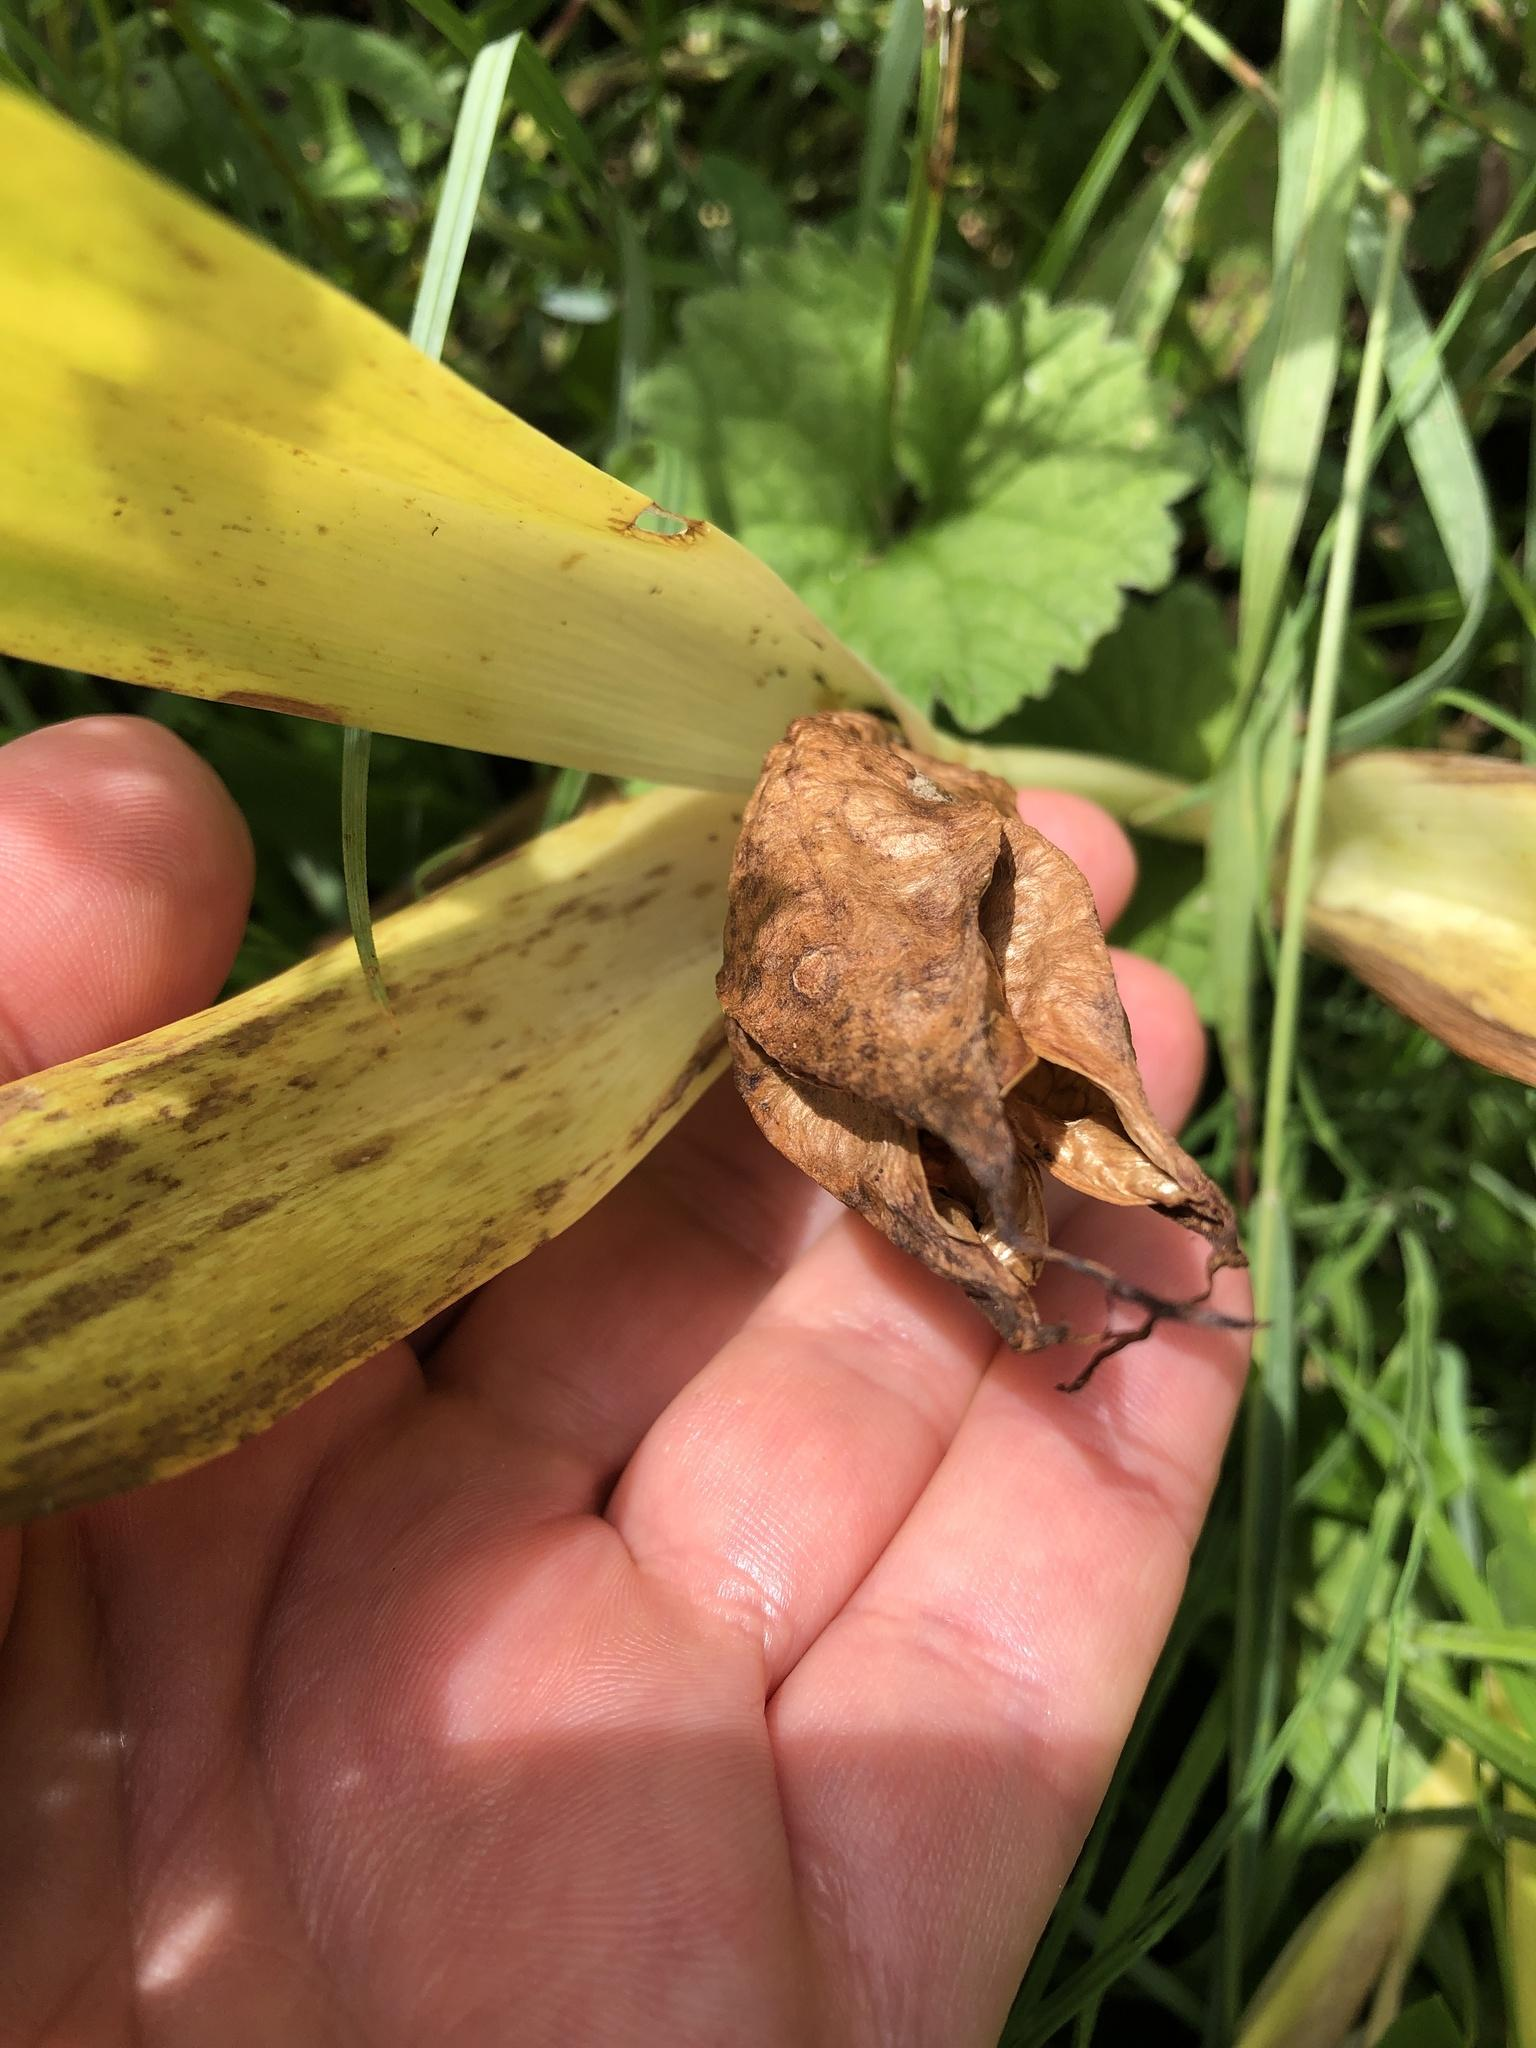Colchicum autumnale L: (0, 90, 1416, 1582)
